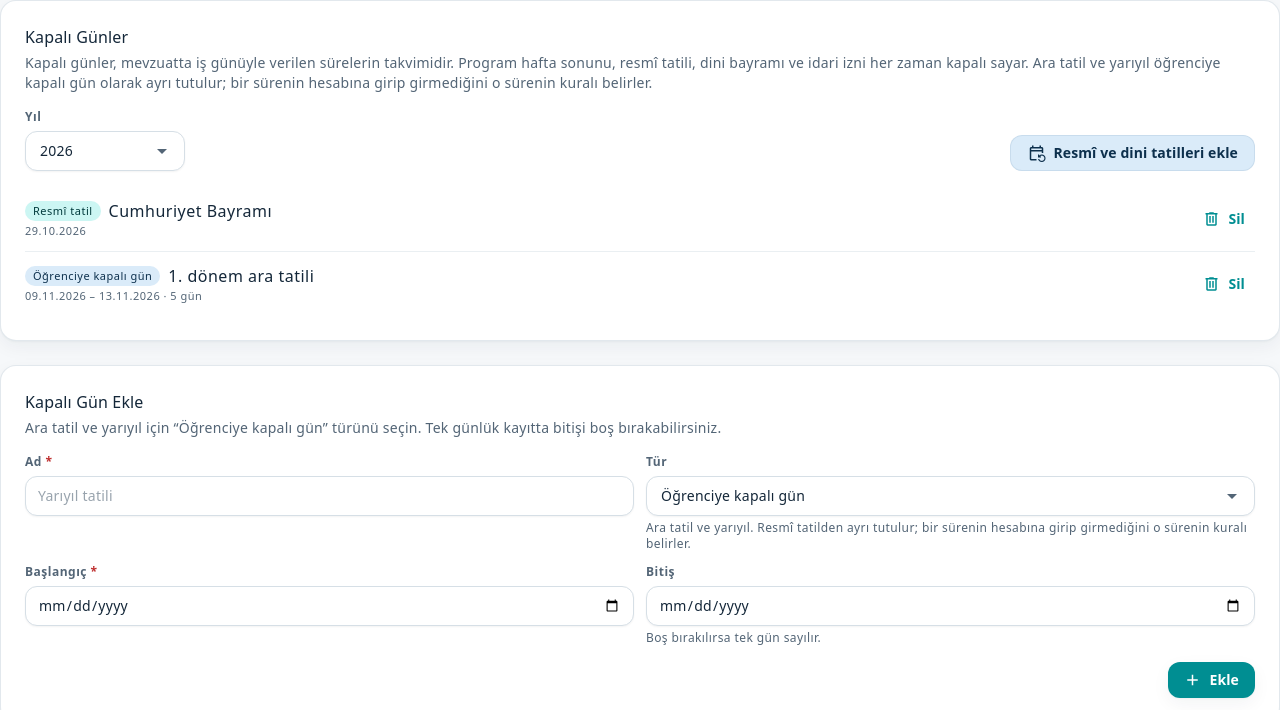
Test: KapaliGunlerPaneli — resmî ve dini tatilleri ekle › programda dini bayram tarihi olmayan yılda kalıcı uyarı gösterir
Expected: the text "Cumhuriyet Bayramı" is shown, [109, 200, 272, 222]
Click the button "Resmî ve dini tatilleri ekle". click: (1133, 153)
box: [1010, 135, 1255, 171]
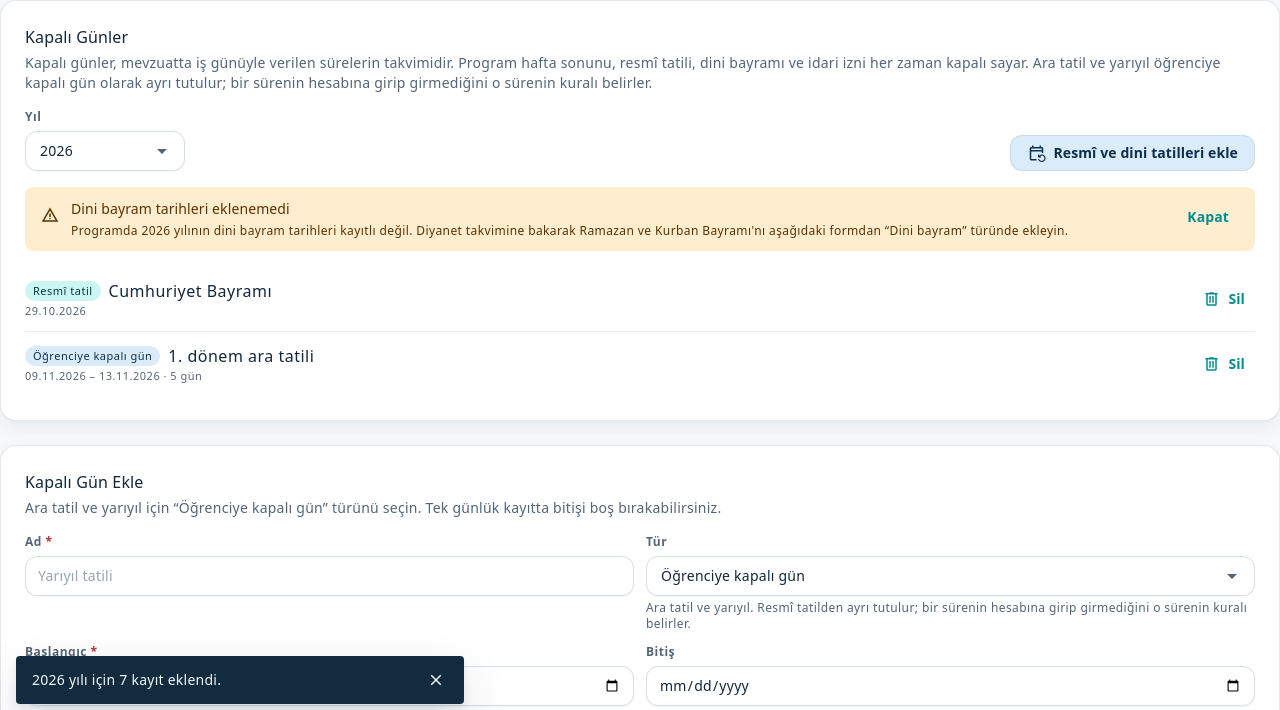
Expected: the message "Dini bayram tarihleri eklenemedi" shows "Diyanet takvimine bakarak", [71, 222, 1068, 239]
Click the button "Kapat". click: (1208, 217)
box: [1177, 199, 1239, 235]
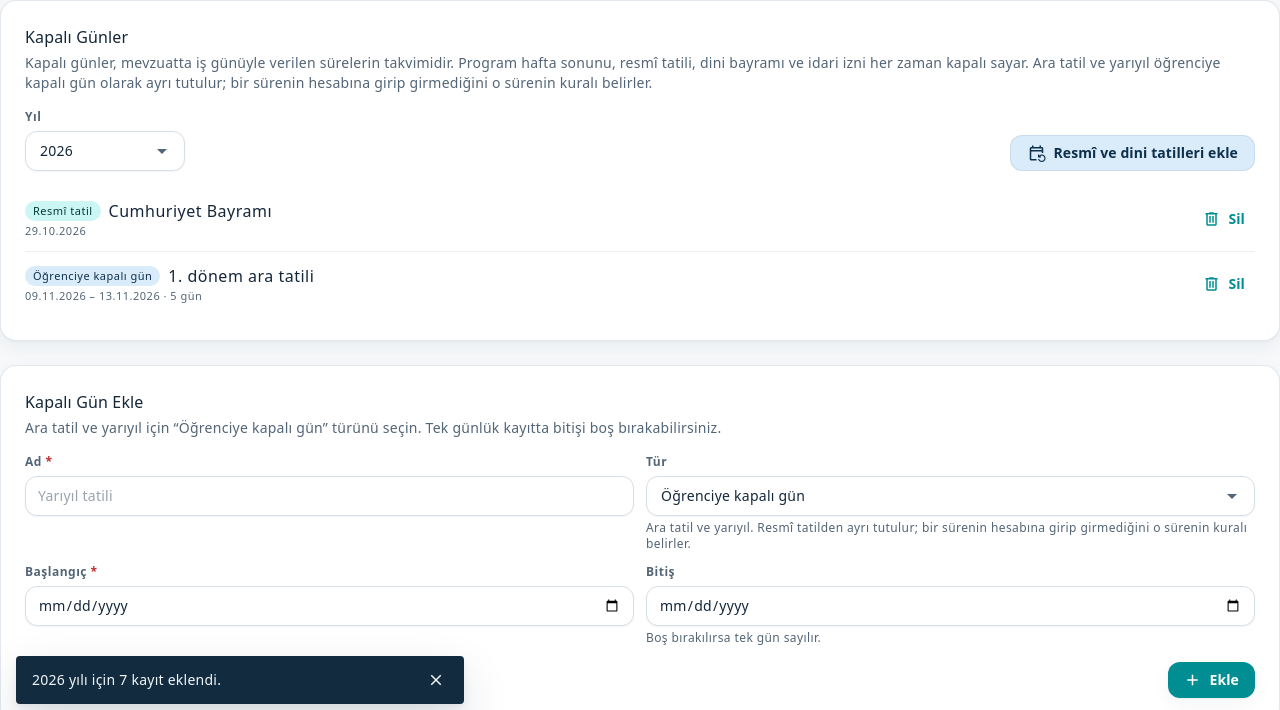
Expected: the text "Dini bayram tarihleri eklenemedi" is gone
